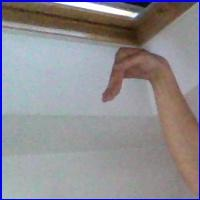del: (95, 41, 173, 108)
